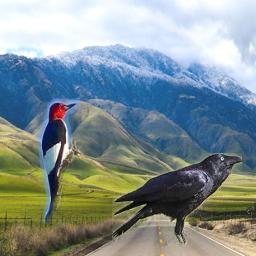Crow: (112, 153, 242, 246)
Woodpecker: (33, 93, 81, 223)
